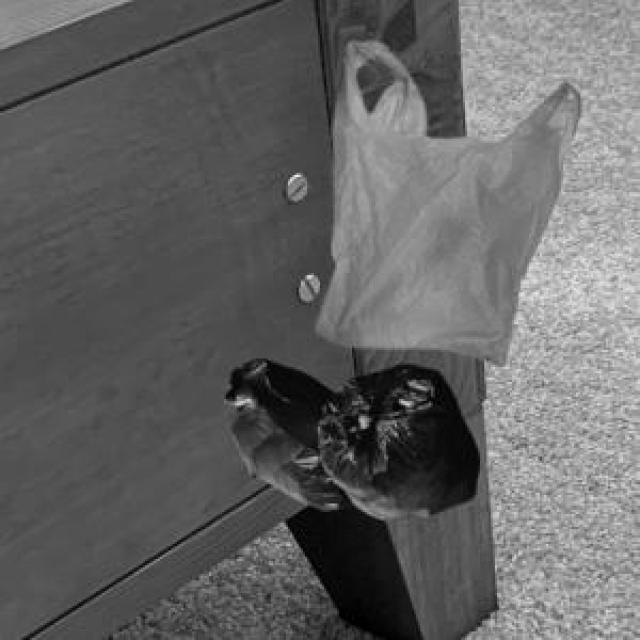miscellaneous trash: (220, 356, 476, 516)
